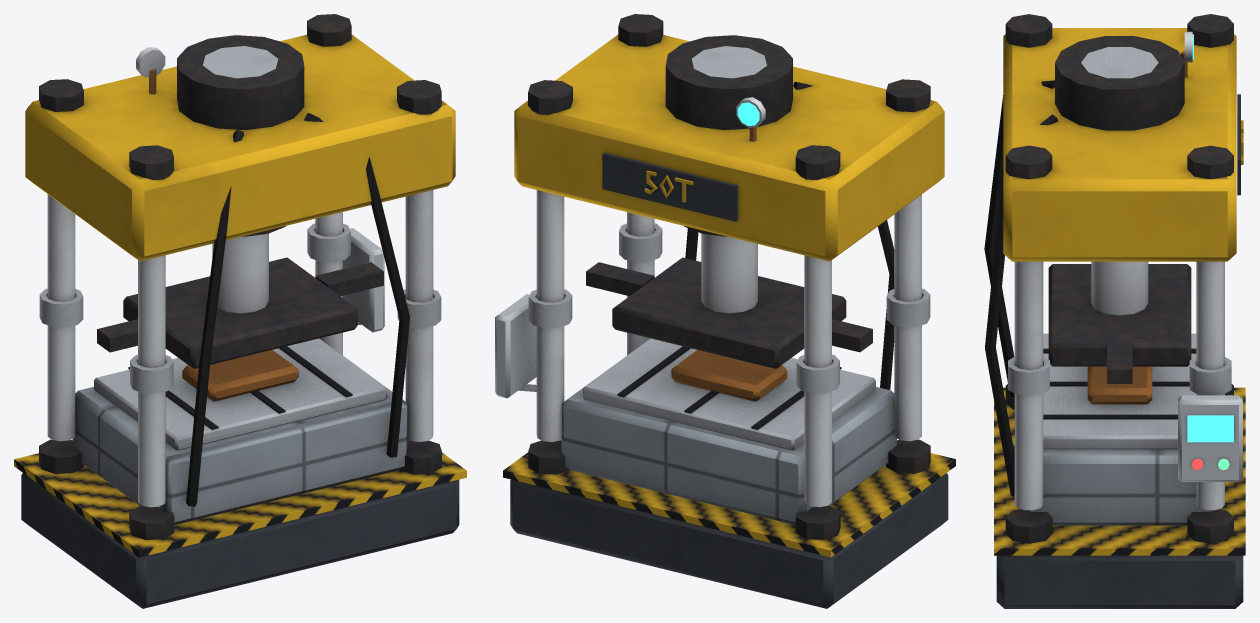
The model's file is prensa_hidraulica.fbx.
3 renders of one model, left to right at view 1: azimuth 30°, elevation 25°; view 2: azimuth 150°, elevation 25°; view 3: azimuth 270°, elevation 25°, orthographic.
Parts seen in each view (by area): view 1: prensa_hidraulica, prensa_hidraulica_piston; view 2: prensa_hidraulica, prensa_hidraulica_piston; view 3: prensa_hidraulica, prensa_hidraulica_piston, prensa_hidraulica_pantalla_neon.
Part boxes in pixels (x1,y1,x2,y2): prensa_hidraulica: (14,14,466,608); prensa_hidraulica_piston: (39,223,441,393); prensa_hidraulica: (495,14,955,608); prensa_hidraulica_piston: (528,223,930,393); prensa_hidraulica: (984,14,1245,608); prensa_hidraulica_piston: (1008,258,1231,396); prensa_hidraulica_pantalla_neon: (1187,415,1233,442).
Bounding box in the file's own units: 3.07 × 4.02 × 2.01.
2 materials, 2 textured.
